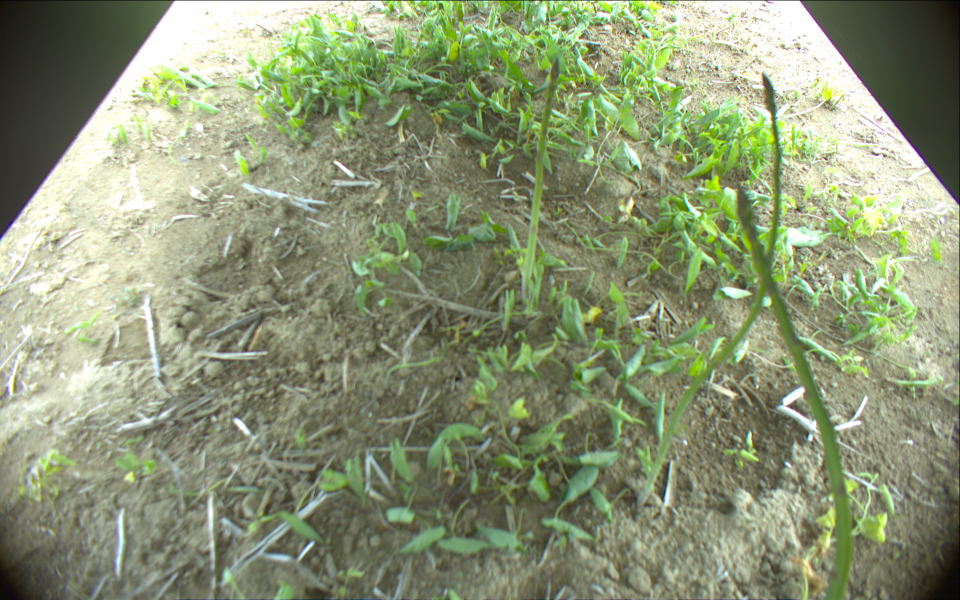aspa: (641, 72, 782, 500), (733, 184, 856, 600), (523, 56, 560, 301)
